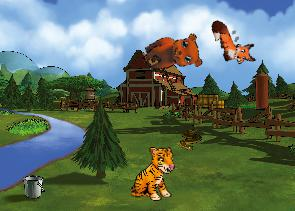bear: (138, 25, 207, 86)
fox: (208, 11, 259, 72)
tiger: (130, 147, 175, 201)
